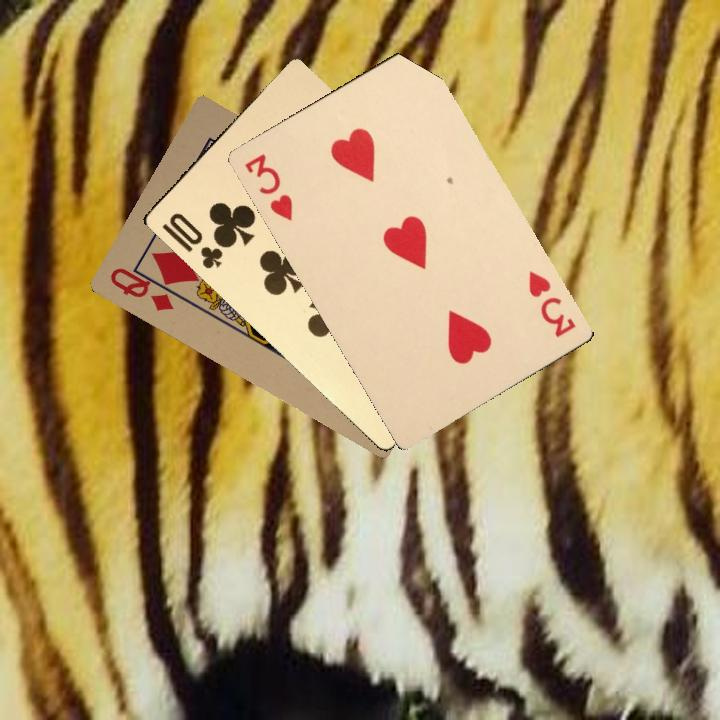10c: (158, 208, 226, 272)
3h: (240, 149, 296, 224), (524, 267, 579, 341)
Qd: (105, 263, 187, 314)
